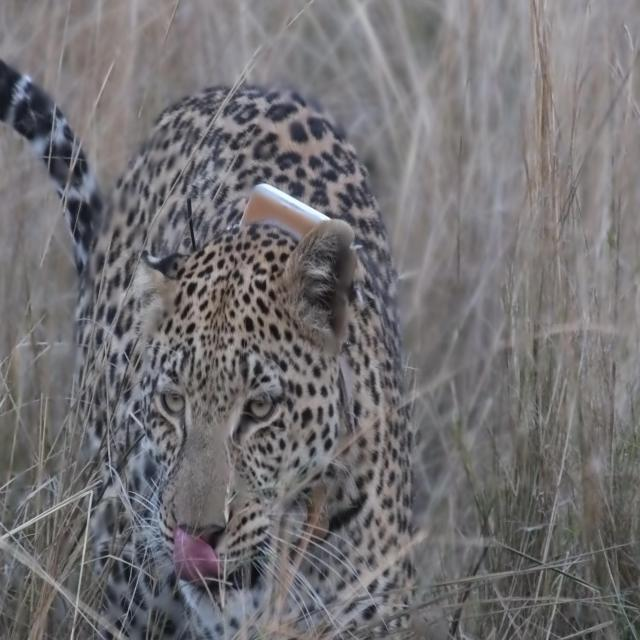Leopard: (0, 34, 433, 640)
